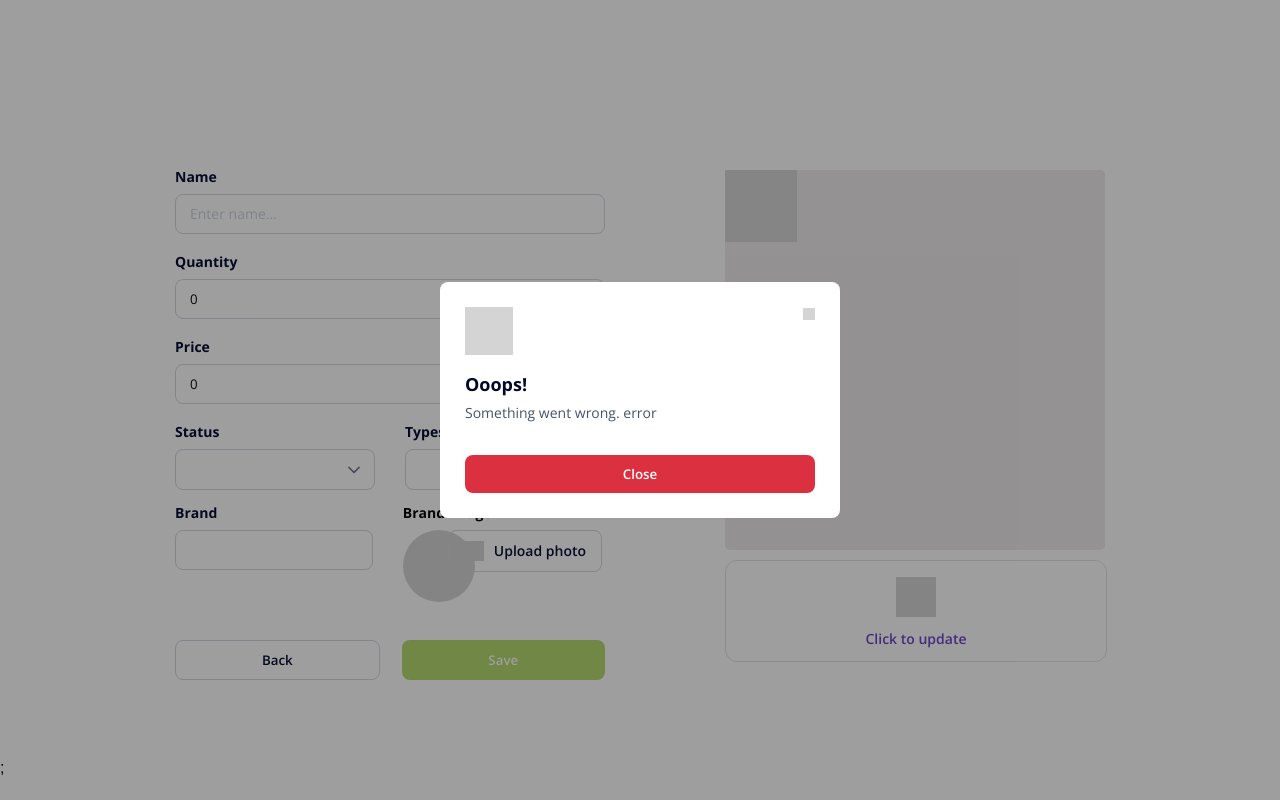
Scenario: Testing Details Page › Should render notification when have error and after that click button close to close
What coordinates should you click on to do the following:
click the button "Close"
I would click on:
 (640, 474)
Its box is [465,455,815,493].
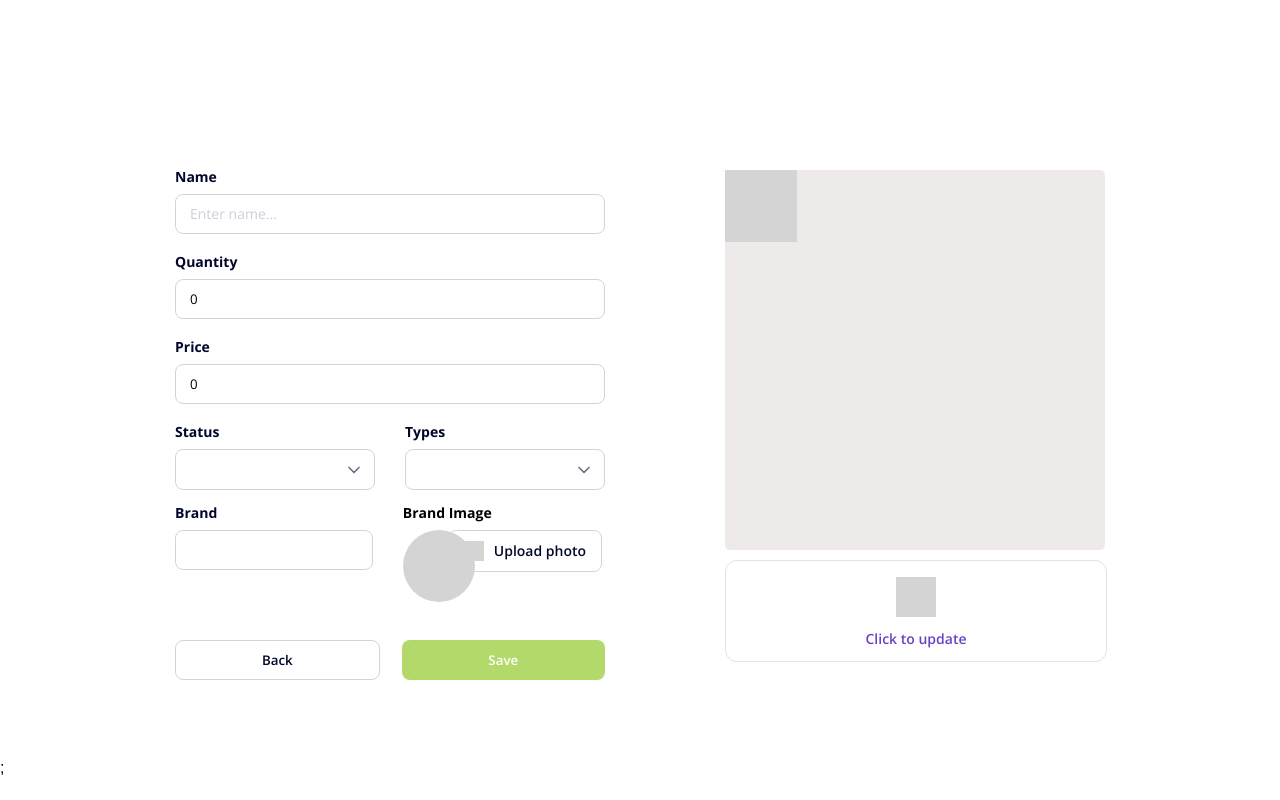
Check: the text "Ooops!" is gone
